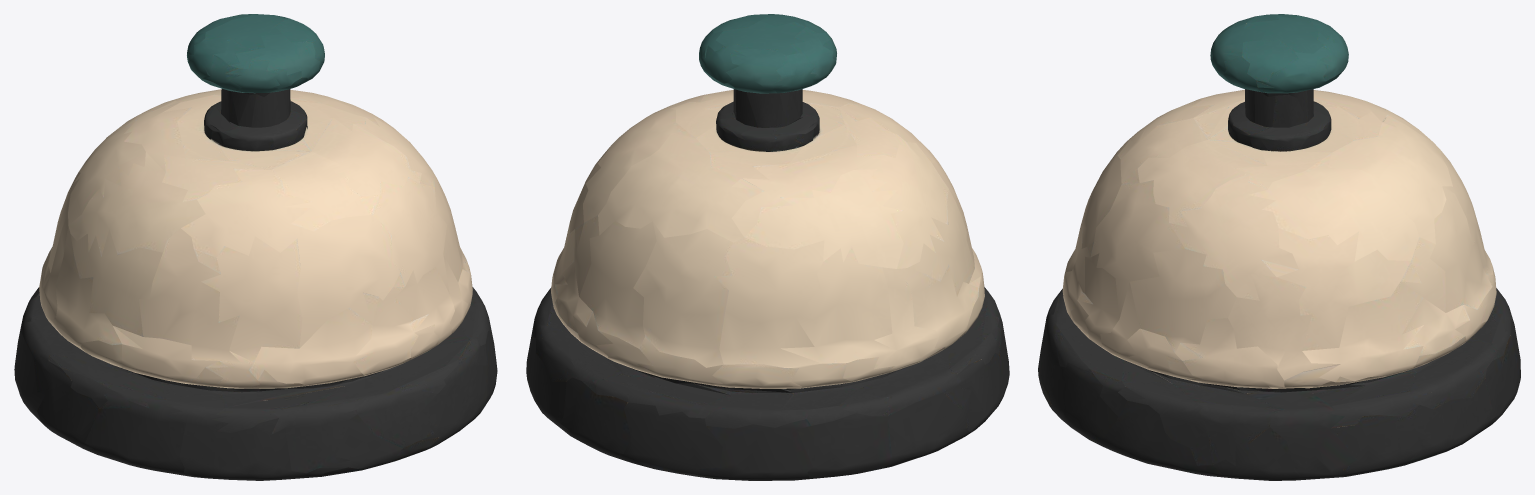
The model's file is rounded-restaurant-service-bell-ready.glb.
The picture shows the model from 3 angles, left to right: view 1: azimuth 30°, elevation 25°; view 2: azimuth 150°, elevation 25°; view 3: azimuth 270°, elevation 25°; orthographic projection.
Parts seen in each view (by area): view 1: Mesh_0; view 2: Mesh_0; view 3: Mesh_0.
Part boxes in pixels (left/top/right/bottom): Mesh_0: left=14, top=14, right=497, bottom=480; Mesh_0: left=526, top=14, right=1009, bottom=480; Mesh_0: left=1038, top=14, right=1520, bottom=480.
Size of the model in its own units: 0.0995 by 0.08 by 0.0996.
Materials: 1 (1 with a texture image).
